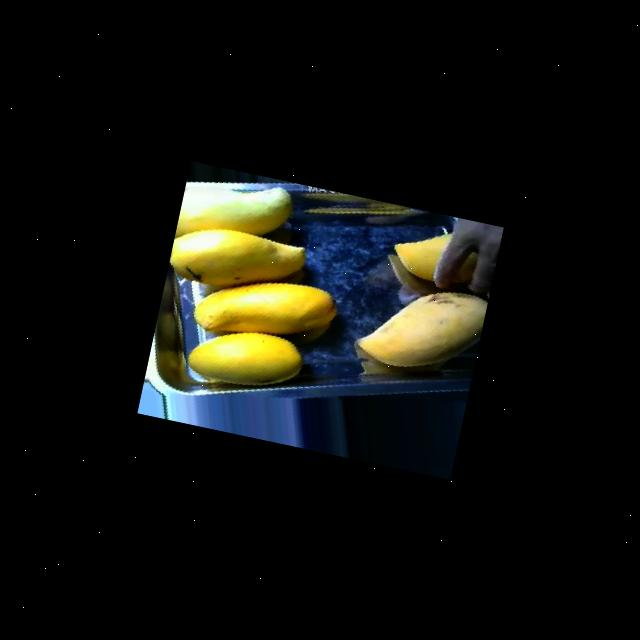Mango: (352, 272, 488, 382), (184, 318, 308, 398)
